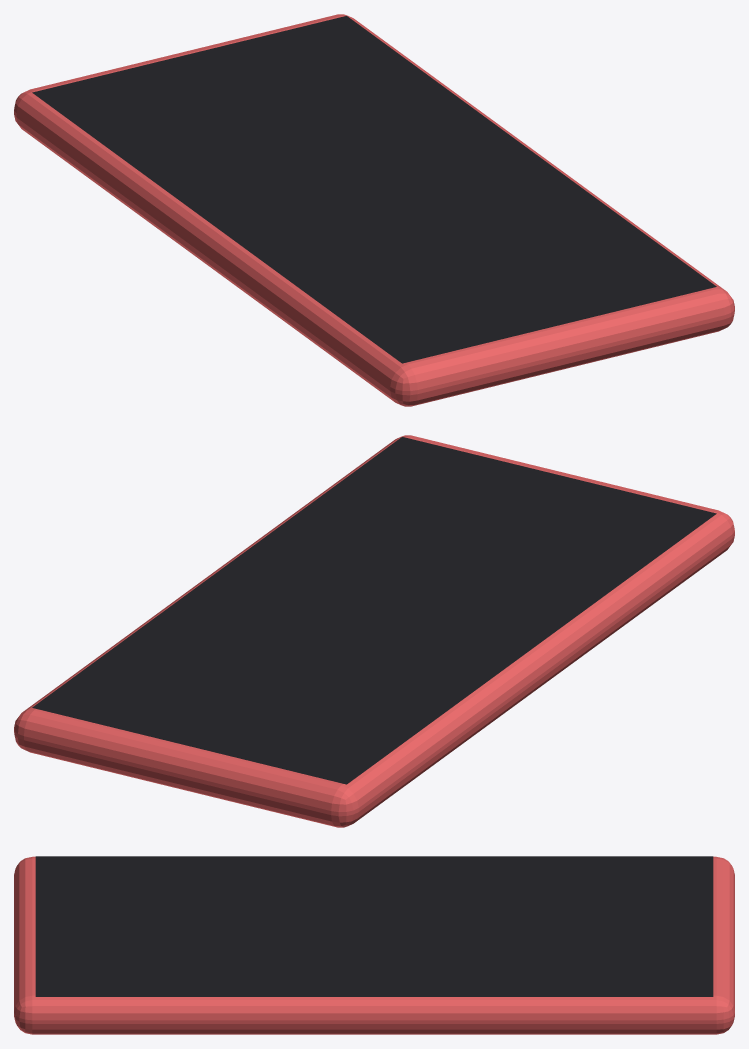
Rendered from motorola-edge-model-155-mid-range-2024.glb.
3 renders of one model, top to bottom at view 1: azimuth 30°, elevation 25°; view 2: azimuth 150°, elevation 25°; view 3: azimuth 270°, elevation 25°, orthographic. The views are drawn at different scales.
Parts seen in each view (by area): view 1: Phone_Screen, Phone_Body; view 2: Phone_Screen, Phone_Body; view 3: Phone_Screen, Phone_Body.
Boxes of the visible parts, box(x1,y1,x2,y2) form: Phone_Screen: box(32, 16, 716, 363); Phone_Body: box(14, 14, 734, 406); Phone_Screen: box(32, 437, 716, 784); Phone_Body: box(14, 435, 734, 827); Phone_Screen: box(35, 856, 713, 996); Phone_Body: box(14, 856, 734, 1034).
Bounding box in the file's own units: 0.0767 × 0.0088 × 0.1529.
